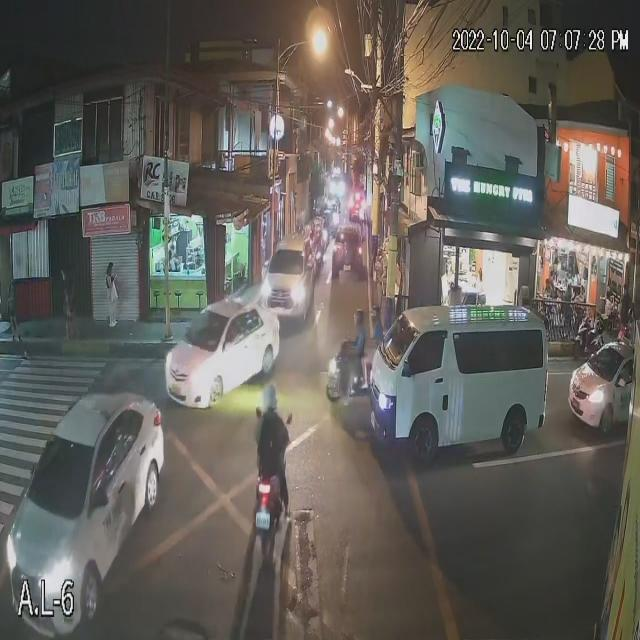helmet: (262, 384, 278, 411), (350, 307, 365, 330), (370, 307, 384, 325)
motorcycle: (251, 467, 289, 560), (325, 344, 373, 404)
rider: (254, 413, 295, 506), (337, 330, 370, 407), (358, 325, 384, 390)
